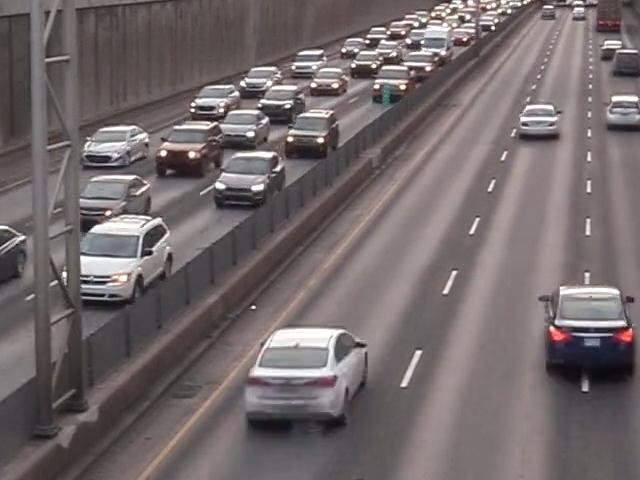car: (240, 322, 373, 433), (530, 278, 640, 385), (58, 217, 180, 313), (80, 171, 155, 227), (0, 215, 36, 300), (211, 155, 281, 197), (153, 125, 215, 166), (89, 124, 147, 163), (509, 103, 564, 141), (286, 110, 347, 144), (220, 110, 273, 145), (253, 86, 300, 115), (603, 93, 640, 129), (189, 81, 236, 108), (242, 66, 280, 90), (382, 68, 410, 100), (310, 68, 341, 94), (611, 49, 640, 75), (409, 50, 436, 75), (596, 38, 624, 60), (352, 50, 378, 73), (289, 55, 320, 74), (342, 38, 373, 56), (380, 41, 401, 60), (408, 28, 425, 49), (390, 21, 408, 37), (369, 27, 388, 42), (451, 29, 467, 42)
truck: (592, 0, 625, 30)
van: (422, 25, 455, 63)
